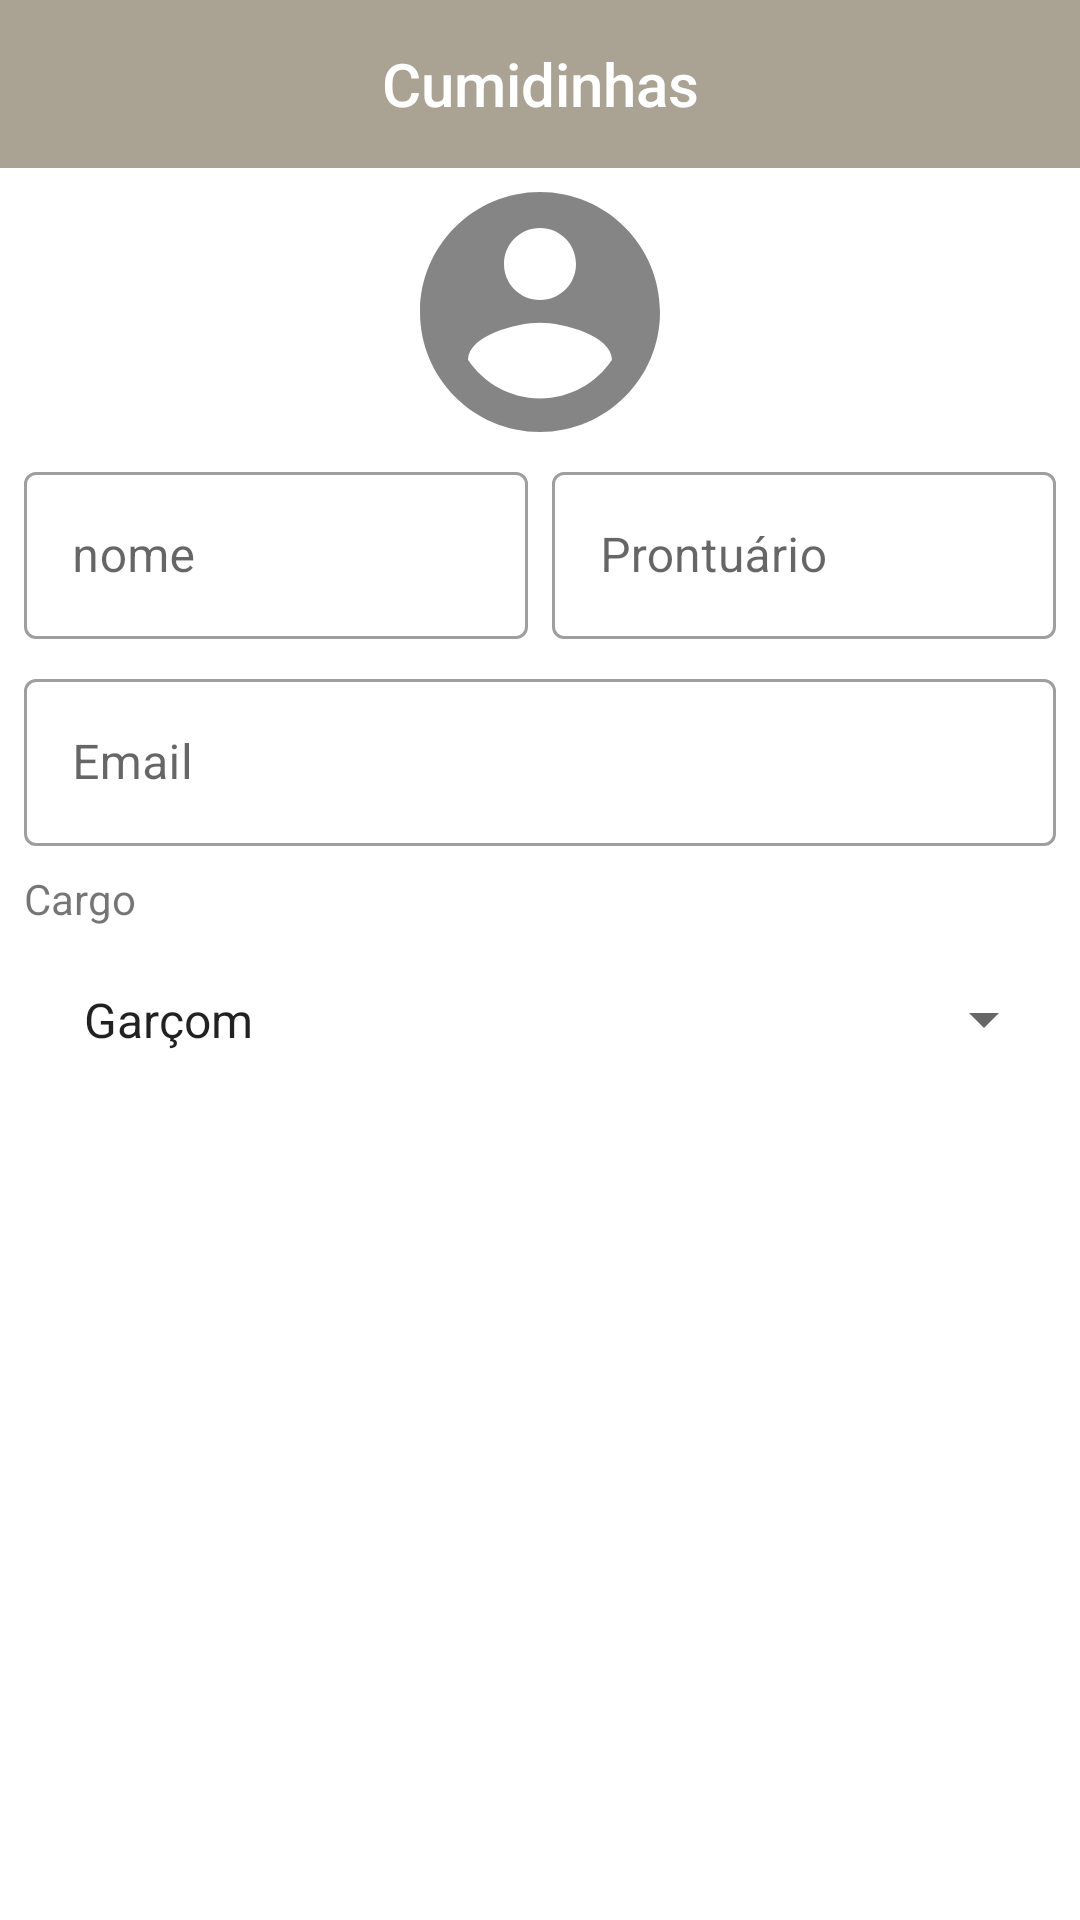

Where to tap for icons on this 1080×1920 app screen, as (x=x, y=y):
account: (x=540, y=312)
